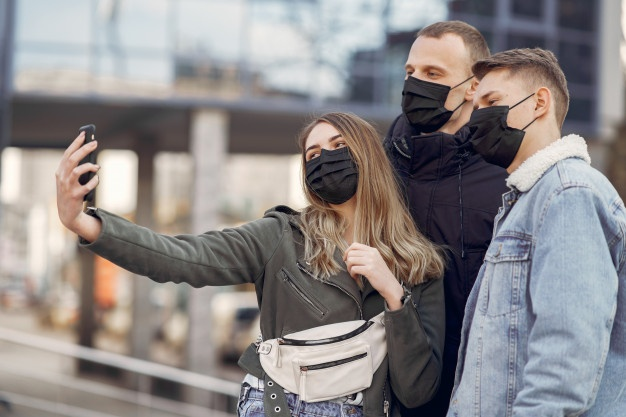with_mask: (470, 71, 552, 169), (403, 40, 470, 135), (304, 132, 361, 204)
